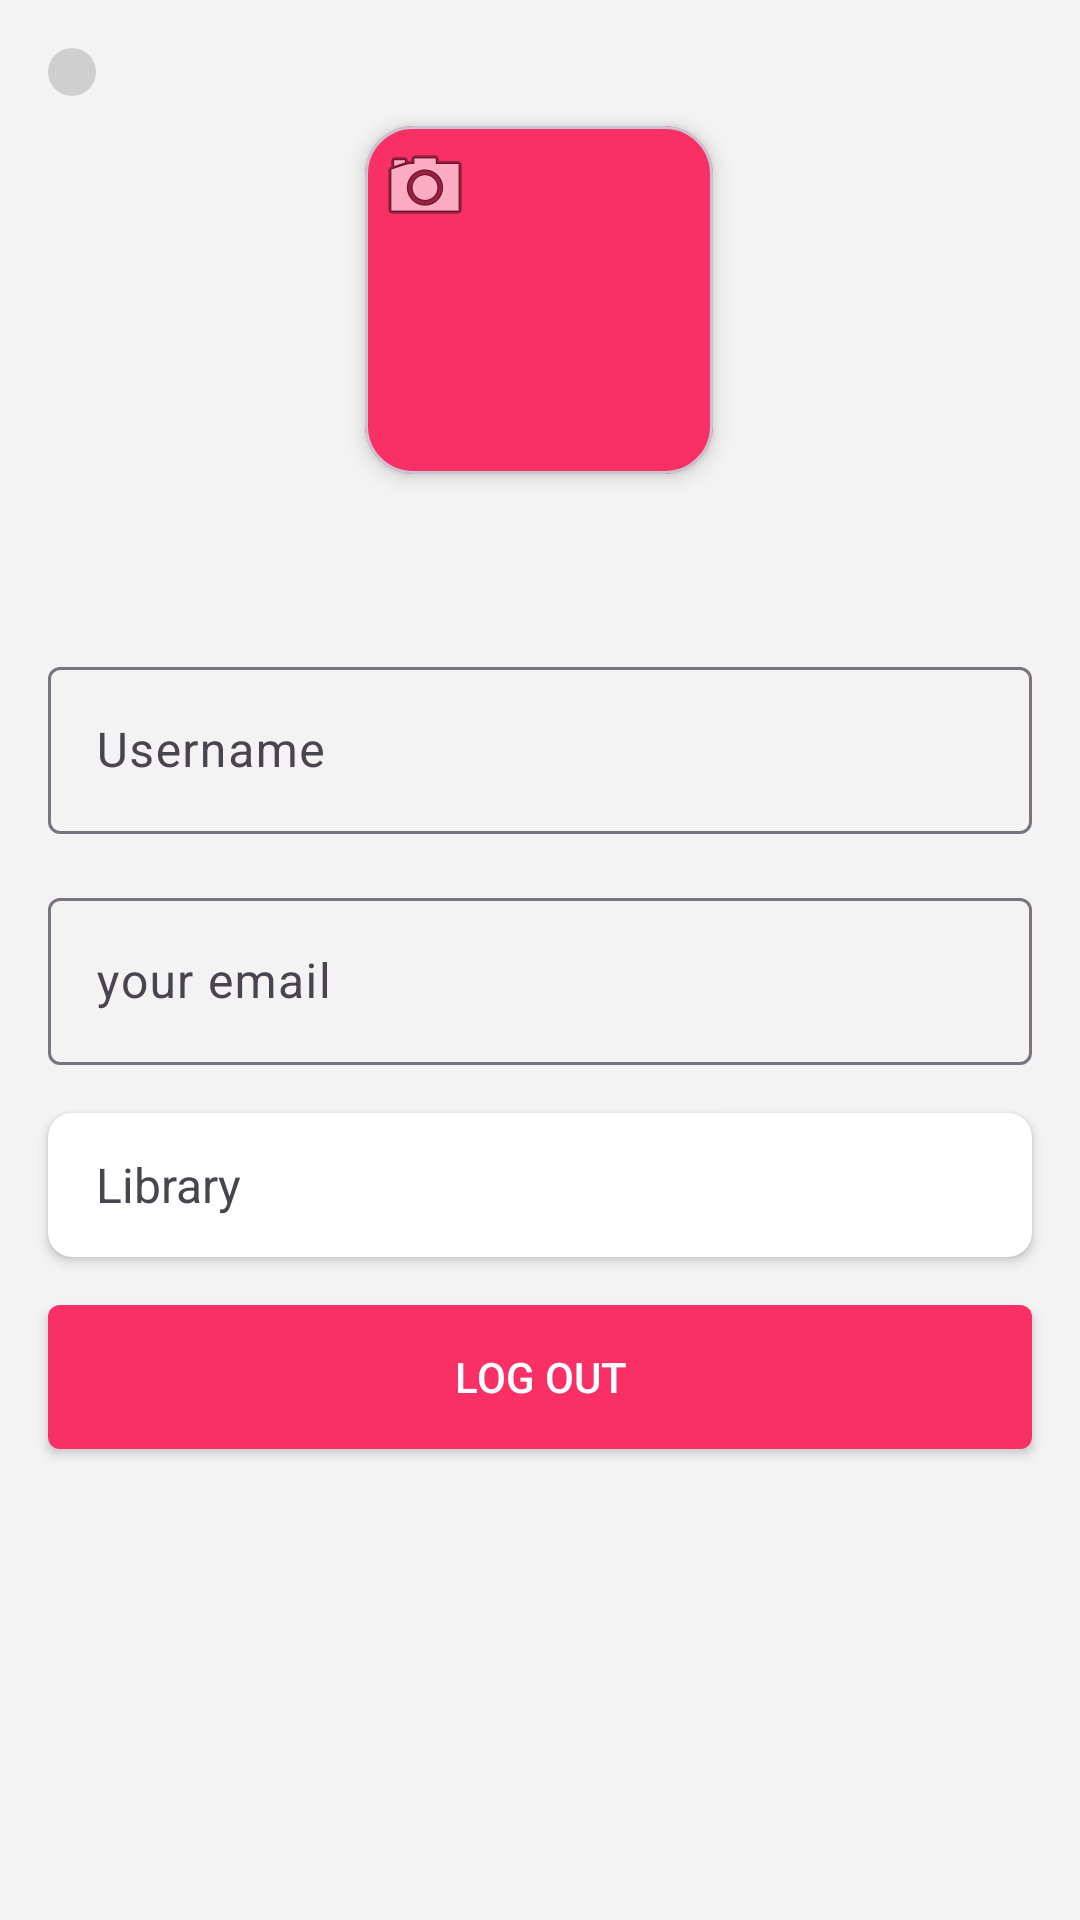

Screen size 1080×1920. Icon name, then its center in pixels as [x,y]:
icon for change user image: [425,184]
